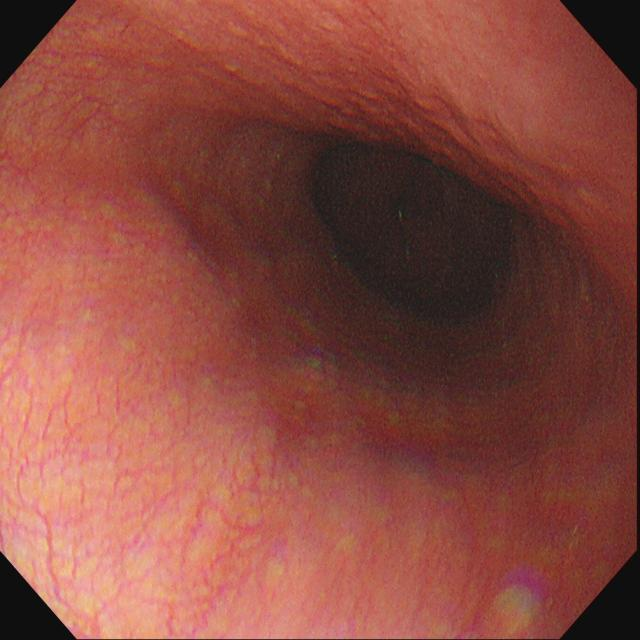E: (313, 134, 511, 309)
